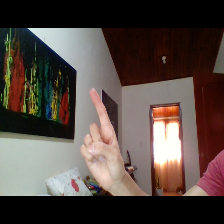2T: (76, 83, 128, 192)
